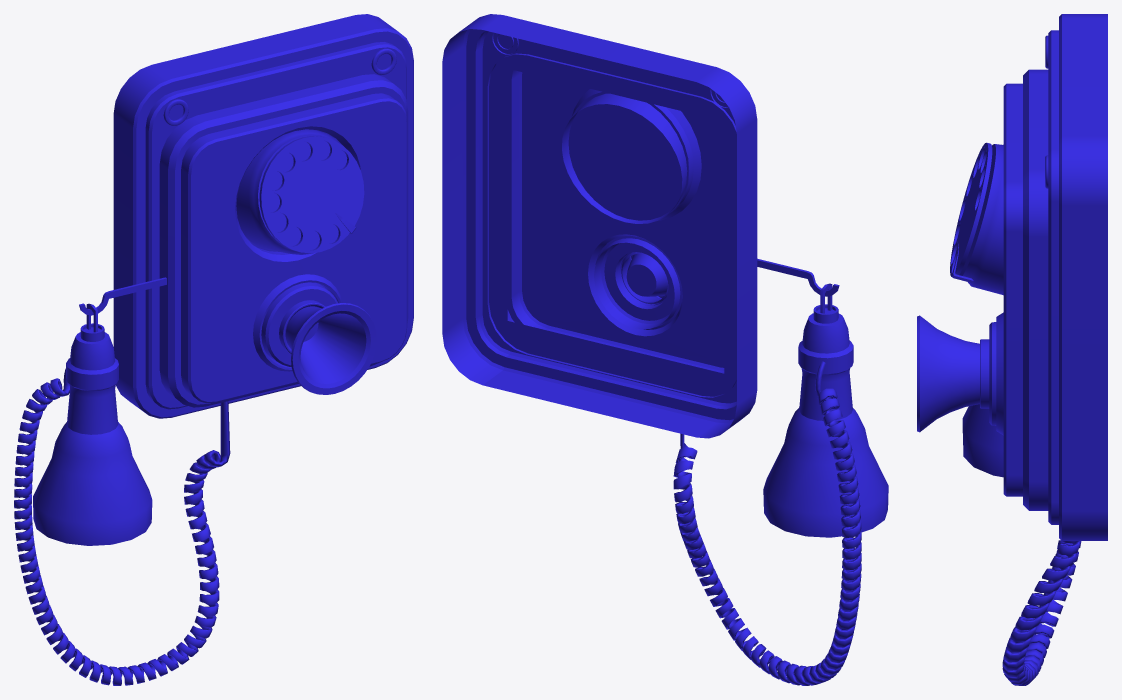
Rendered from Old Phone LP04.fbx.
3 views of the same model, side by side, from view 1: azimuth 30°, elevation 25°; view 2: azimuth 150°, elevation 25°; view 3: azimuth 270°, elevation 25° (orthographic). The views are drawn at different scales.
Visible parts, largest first — view 1: Bronze face, Wooden base, handset, Wire.001, disc top, disc under, Cylinder.003, holder.002; view 2: Wooden base, Bronze face, handset, Wire.001, disc under, holder.002; view 3: Wooden base, Bronze face, Wire.001, disc under, disc top, handset.
Boxes of the visible parts, left/top/right/bottom form: Bronze face: left=159, top=74, right=408, bottom=407; Wooden base: left=113, top=14, right=413, bottom=418; handset: left=33, top=323, right=152, bottom=545; Wire.001: left=14, top=368, right=230, bottom=685; disc top: left=259, top=136, right=364, bottom=253; disc under: left=236, top=129, right=347, bottom=254; Cylinder.003: left=163, top=48, right=396, bottom=125; holder.002: left=79, top=277, right=166, bottom=315; Wooden base: left=442, top=14, right=757, bottom=438; Bronze face: left=487, top=53, right=736, bottom=397; handset: left=763, top=304, right=888, bottom=537; Wire.001: left=673, top=361, right=861, bottom=685; disc under: left=562, top=93, right=687, bottom=223; holder.002: left=757, top=258, right=839, bottom=296; Wooden base: left=1048, top=14, right=1107, bottom=540; Bronze face: left=917, top=69, right=1048, bottom=510; Wire.001: left=1002, top=540, right=1081, bottom=685; disc under: left=959, top=144, right=1003, bottom=295; disc top: left=950, top=142, right=992, bottom=276; handset: left=962, top=404, right=1003, bottom=477.
Size of the model in its own units: 44.08 by 62.99 by 15.84.
